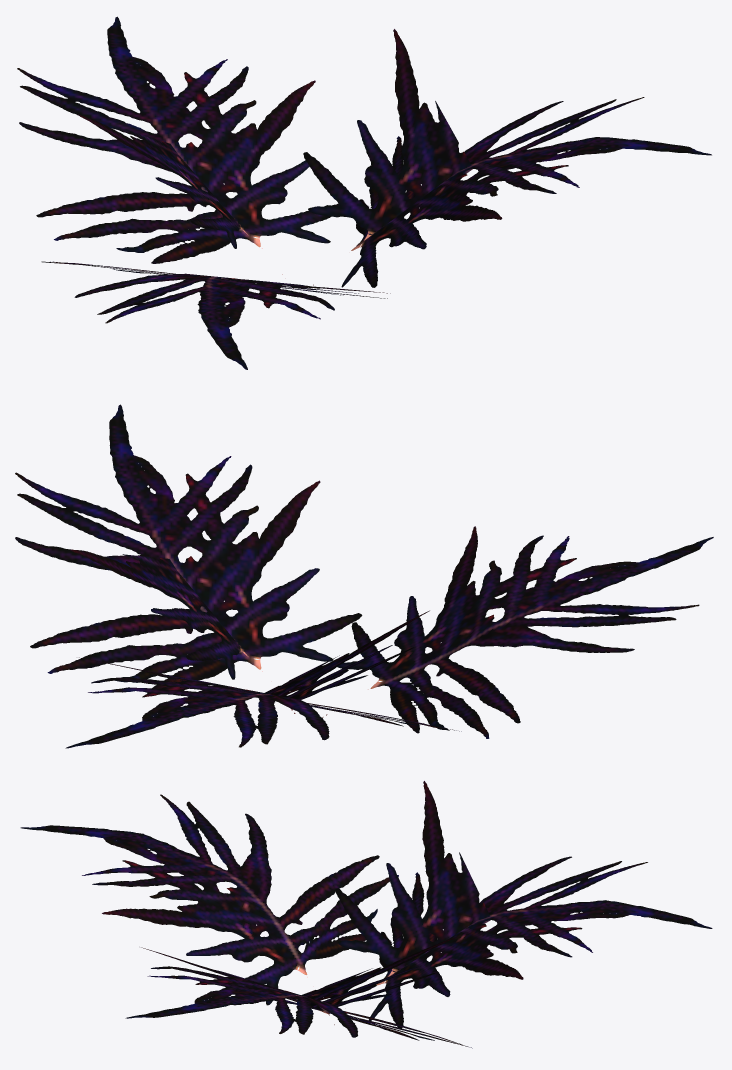
The model's file is Painter Wort C.fbx.
The picture shows the model from 3 angles, top to bottom: view 1: azimuth 30°, elevation 25°; view 2: azimuth 150°, elevation 25°; view 3: azimuth 270°, elevation 25°; orthographic projection. The views are drawn at different scales.
Parts seen in each view (by area): view 1: Painter Wort C; view 2: Painter Wort C; view 3: Painter Wort C.
Part boxes in pixels (x1,y1,x2,y2): Painter Wort C: (17, 16, 711, 369); Painter Wort C: (15, 404, 713, 748); Painter Wort C: (20, 781, 712, 1048).
Bounding box in the file's own units: 112 × 32.98 × 124.
